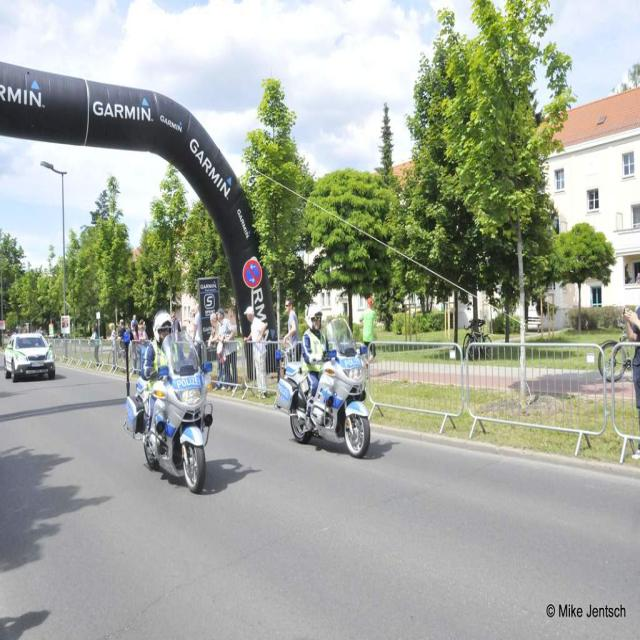car: (3, 329, 54, 382)
